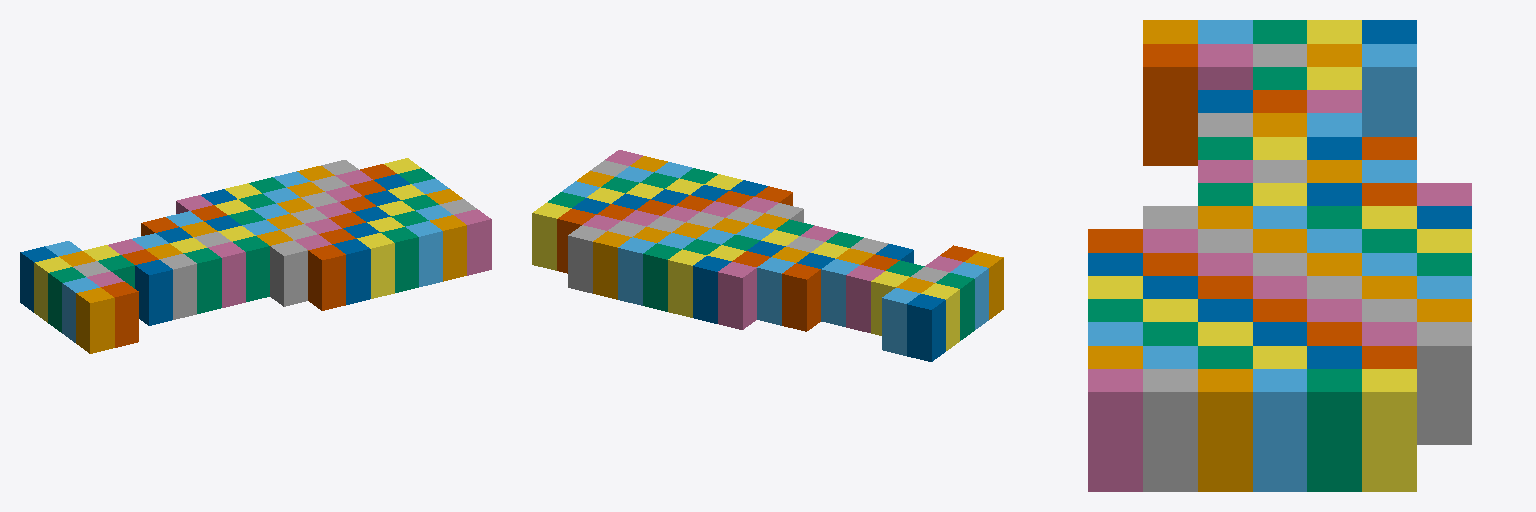
--- What the picture shows (computed from the rendered views, not written in the file) ---
Views: 3 orthographic renders of the robot side by side, from view 1: azimuth 30°, elevation 25°; view 2: azimuth 150°, elevation 25°; view 3: azimuth 270°, elevation 25°.
Robot: spray_gun — 84 links, 83 joints (83 fixed); root link box0; default pose: every joint at zero.
Visible links, largest first — view 1: box0, box31, box37, box12, box78, box44, box18, box5, box22, box65, box15, box51 (+8 smaller); view 2: box21, box4, box30, box14, box36, box71, box25, box43, box50, box57, box9, box83 (+8 smaller); view 3: box71, box78, box79, box80, box82, box83, box5, box81, box9, box6, box0, box1 (+28 smaller).
Boxes of the visible links, bbox=[...] form: box0: bbox=[76, 287, 114, 353]; box31: bbox=[270, 240, 307, 306]; box37: bbox=[308, 245, 345, 310]; box12: bbox=[135, 260, 172, 325]; box78: bbox=[454, 209, 491, 275]; box44: bbox=[332, 239, 370, 304]; box18: bbox=[183, 248, 221, 313]; box5: bbox=[101, 282, 138, 347]; box22: bbox=[208, 242, 245, 307]; box65: bbox=[406, 221, 442, 286]; box15: bbox=[159, 254, 196, 319]; box51: bbox=[357, 233, 394, 298]; box21: bbox=[782, 263, 820, 331]; box4: bbox=[907, 294, 945, 361]; box30: bbox=[718, 262, 756, 329]; box14: bbox=[846, 265, 884, 332]; box36: bbox=[693, 256, 731, 323]; box71: bbox=[568, 225, 606, 293]; box25: bbox=[757, 257, 795, 325]; box43: bbox=[668, 249, 706, 317]; box50: bbox=[643, 243, 681, 311]; box57: bbox=[618, 237, 656, 305]; box9: bbox=[882, 288, 920, 355]; box83: bbox=[532, 202, 571, 270]; box71: bbox=[1417, 322, 1471, 444]; box78: bbox=[1088, 369, 1142, 491]; box79: bbox=[1143, 369, 1197, 491]; box80: bbox=[1198, 369, 1252, 491]; box82: bbox=[1307, 369, 1361, 491]; box83: bbox=[1362, 369, 1416, 491]; box5: bbox=[1143, 44, 1197, 165]; box81: bbox=[1253, 369, 1306, 491]; box9: bbox=[1362, 44, 1416, 136]; box6: bbox=[1198, 44, 1252, 89]; box0: bbox=[1143, 20, 1197, 43]; box1: bbox=[1198, 20, 1252, 43].
Bounding box of the posed robot: 16 × 7 × 2 m (x, y, z).
Geometry: primitives only (box / cylinder / sphere), no mesh files.

The robot description file, URDF, robot "spray_gun":
<robot name = "spray_gun">
	<link name = "box0">
		<visual>
			<origin xyz="0.0 1.0 0.0"/>
			<geometry>
				<box size = "1 1 2"/>
			</geometry>
		</visual>
		<collision>
			<origin xyz="0.0 1.0 0.0"/>
			<geometry>
				<box size = "1 1 2"/>
			</geometry>
		</collision>
		<contact>
			<lateral_friction value = "0.5"/>
		</contact>
		<inertial>
			<mass value = "0.005952380952380952"/>
			<inertia ixx="0.00248015873015873" ixy="0.0" ixz="0.0" iyy="0.00248015873015873" iyz="0.0" izz="0.000992063492063492"/>
			<origin xyz="0.0 1.0 0.0"/>
		</inertial>
	</link>
	<link name = "box1">
		<visual>
			<origin xyz="0.0 2.0 0.0"/>
			<geometry>
				<box size = "1 1 2"/>
			</geometry>
		</visual>
		<collision>
			<origin xyz="0.0 2.0 0.0"/>
			<geometry>
				<box size = "1 1 2"/>
			</geometry>
		</collision>
		<contact>
			<lateral_friction value = "0.5"/>
		</contact>
		<inertial>
			<mass value = "0.005952380952380952"/>
			<inertia ixx="0.00248015873015873" ixy="0.0" ixz="0.0" iyy="0.00248015873015873" iyz="0.0" izz="0.000992063492063492"/>
			<origin xyz="0.0 2.0 0.0"/>
		</inertial>
	</link>
	<joint name = "joint1" type = "fixed">
		<parent link = "box0"/>
		<child link = "box1"/>
	</joint>
	<link name = "box2">
		<visual>
			<origin xyz="0.0 3.0 0.0"/>
			<geometry>
				<box size = "1 1 2"/>
			</geometry>
		</visual>
		<collision>
			<origin xyz="0.0 3.0 0.0"/>
			<geometry>
				<box size = "1 1 2"/>
			</geometry>
		</collision>
		<contact>
			<lateral_friction value = "0.5"/>
		</contact>
		<inertial>
			<mass value = "0.005952380952380952"/>
			<inertia ixx="0.00248015873015873" ixy="0.0" ixz="0.0" iyy="0.00248015873015873" iyz="0.0" izz="0.000992063492063492"/>
			<origin xyz="0.0 3.0 0.0"/>
		</inertial>
	</link>
	<joint name = "joint2" type = "fixed">
		<parent link = "box0"/>
		<child link = "box2"/>
	</joint>
	<link name = "box3">
		<visual>
			<origin xyz="0.0 4.0 0.0"/>
			<geometry>
				<box size = "1 1 2"/>
			</geometry>
		</visual>
		<collision>
			<origin xyz="0.0 4.0 0.0"/>
			<geometry>
				<box size = "1 1 2"/>
			</geometry>
		</collision>
		<contact>
			<lateral_friction value = "0.5"/>
		</contact>
		<inertial>
			<mass value = "0.005952380952380952"/>
			<inertia ixx="0.00248015873015873" ixy="0.0" ixz="0.0" iyy="0.00248015873015873" iyz="0.0" izz="0.000992063492063492"/>
			<origin xyz="0.0 4.0 0.0"/>
		</inertial>
	</link>
	<joint name = "joint3" type = "fixed">
		<parent link = "box0"/>
		<child link = "box3"/>
	</joint>
	<link name = "box4">
		<visual>
			<origin xyz="0.0 5.0 0.0"/>
			<geometry>
				<box size = "1 1 2"/>
			</geometry>
		</visual>
		<collision>
			<origin xyz="0.0 5.0 0.0"/>
			<geometry>
				<box size = "1 1 2"/>
			</geometry>
		</collision>
		<contact>
			<lateral_friction value = "0.5"/>
		</contact>
		<inertial>
			<mass value = "0.005952380952380952"/>
			<inertia ixx="0.00248015873015873" ixy="0.0" ixz="0.0" iyy="0.00248015873015873" iyz="0.0" izz="0.000992063492063492"/>
			<origin xyz="0.0 5.0 0.0"/>
		</inertial>
	</link>
	<joint name = "joint4" type = "fixed">
		<parent link = "box0"/>
		<child link = "box4"/>
	</joint>
	<link name = "box5">
		<visual>
			<origin xyz="1.0 1.0 0.0"/>
			<geometry>
				<box size = "1 1 2"/>
			</geometry>
		</visual>
		<collision>
			<origin xyz="1.0 1.0 0.0"/>
			<geometry>
				<box size = "1 1 2"/>
			</geometry>
		</collision>
		<contact>
			<lateral_friction value = "0.5"/>
		</contact>
		<inertial>
			<mass value = "0.005952380952380952"/>
			<inertia ixx="0.00248015873015873" ixy="0.0" ixz="0.0" iyy="0.00248015873015873" iyz="0.0" izz="0.000992063492063492"/>
			<origin xyz="1.0 1.0 0.0"/>
		</inertial>
	</link>
	<joint name = "joint5" type = "fixed">
		<parent link = "box0"/>
		<child link = "box5"/>
	</joint>
	<link name = "box6">
		<visual>
			<origin xyz="1.0 2.0 0.0"/>
			<geometry>
				<box size = "1 1 2"/>
			</geometry>
		</visual>
		<collision>
			<origin xyz="1.0 2.0 0.0"/>
			<geometry>
				<box size = "1 1 2"/>
			</geometry>
		</collision>
		<contact>
			<lateral_friction value = "0.5"/>
		</contact>
		<inertial>
			<mass value = "0.005952380952380952"/>
			<inertia ixx="0.00248015873015873" ixy="0.0" ixz="0.0" iyy="0.00248015873015873" iyz="0.0" izz="0.000992063492063492"/>
			<origin xyz="1.0 2.0 0.0"/>
		</inertial>
	</link>
	<joint name = "joint6" type = "fixed">
		<parent link = "box0"/>
		<child link = "box6"/>
	</joint>
	<link name = "box7">
		<visual>
			<origin xyz="1.0 3.0 0.0"/>
			<geometry>
				<box size = "1 1 2"/>
			</geometry>
		</visual>
		<collision>
			<origin xyz="1.0 3.0 0.0"/>
			<geometry>
				<box size = "1 1 2"/>
			</geometry>
		</collision>
		<contact>
			<lateral_friction value = "0.5"/>
		</contact>
		<inertial>
			<mass value = "0.005952380952380952"/>
			<inertia ixx="0.00248015873015873" ixy="0.0" ixz="0.0" iyy="0.00248015873015873" iyz="0.0" izz="0.000992063492063492"/>
			<origin xyz="1.0 3.0 0.0"/>
		</inertial>
	</link>
	<joint name = "joint7" type = "fixed">
		<parent link = "box0"/>
		<child link = "box7"/>
	</joint>
	<link name = "box8">
		<visual>
			<origin xyz="1.0 4.0 0.0"/>
			<geometry>
				<box size = "1 1 2"/>
			</geometry>
		</visual>
		<collision>
			<origin xyz="1.0 4.0 0.0"/>
			<geometry>
				<box size = "1 1 2"/>
			</geometry>
		</collision>
		<contact>
			<lateral_friction value = "0.5"/>
		</contact>
		<inertial>
			<mass value = "0.005952380952380952"/>
			<inertia ixx="0.00248015873015873" ixy="0.0" ixz="0.0" iyy="0.00248015873015873" iyz="0.0" izz="0.000992063492063492"/>
			<origin xyz="1.0 4.0 0.0"/>
		</inertial>
	</link>
	<joint name = "joint8" type = "fixed">
		<parent link = "box0"/>
		<child link = "box8"/>
	</joint>
	<link name = "box9">
		<visual>
			<origin xyz="1.0 5.0 0.0"/>
			<geometry>
				<box size = "1 1 2"/>
			</geometry>
		</visual>
		<collision>
			<origin xyz="1.0 5.0 0.0"/>
			<geometry>
				<box size = "1 1 2"/>
			</geometry>
		</collision>
		<contact>
			<lateral_friction value = "0.5"/>
		</contact>
		<inertial>
			<mass value = "0.005952380952380952"/>
			<inertia ixx="0.00248015873015873" ixy="0.0" ixz="0.0" iyy="0.00248015873015873" iyz="0.0" izz="0.000992063492063492"/>
			<origin xyz="1.0 5.0 0.0"/>
		</inertial>
	</link>
	<joint name = "joint9" type = "fixed">
		<parent link = "box0"/>
		<child link = "box9"/>
	</joint>
	<link name = "box10">
		<visual>
			<origin xyz="2.0 3.0 0.0"/>
			<geometry>
				<box size = "1 1 2"/>
			</geometry>
		</visual>
		<collision>
			<origin xyz="2.0 3.0 0.0"/>
			<geometry>
				<box size = "1 1 2"/>
			</geometry>
		</collision>
		<contact>
			<lateral_friction value = "0.0"/>
		</contact>
		<inertial>
			<mass value = "0.0"/>
			<inertia ixx="0.0" ixy="0.0" ixz="0.0" iyy="0.0" iyz="0.0" izz="0.0"/>
			<origin xyz="2.0 3.0 0.0"/>
		</inertial>
	</link>
	<joint name = "joint10" type = "fixed">
		<parent link = "box0"/>
		<child link = "box10"/>
	</joint>
	<link name = "box11">
		<visual>
			<origin xyz="2.0 4.0 0.0"/>
			<geometry>
				<box size = "1 1 2"/>
			</geometry>
		</visual>
		<collision>
			<origin xyz="2.0 4.0 0.0"/>
			<geometry>
				<box size = "1 1 2"/>
			</geometry>
		</collision>
		<contact>
			<lateral_friction value = "0.0"/>
		</contact>
		<inertial>
			<mass value = "0.0"/>
			<inertia ixx="0.0" ixy="0.0" ixz="0.0" iyy="0.0" iyz="0.0" izz="0.0"/>
			<origin xyz="2.0 4.0 0.0"/>
		</inertial>
	</link>
	<joint name = "joint11" type = "fixed">
		<parent link = "box0"/>
		<child link = "box11"/>
	</joint>
	<link name = "box12">
		<visual>
			<origin xyz="3.0 2.0 0.0"/>
			<geometry>
				<box size = "1 1 2"/>
			</geometry>
		</visual>
		<collision>
			<origin xyz="3.0 2.0 0.0"/>
			<geometry>
				<box size = "1 1 2"/>
			</geometry>
		</collision>
		<contact>
			<lateral_friction value = "0.3"/>
		</contact>
		<inertial>
			<mass value = "0.0035714285714285713"/>
			<inertia ixx="0.001488095238095238" ixy="0.0" ixz="0.0" iyy="0.001488095238095238" iyz="0.0" izz="0.0005952380952380952"/>
			<origin xyz="3.0 2.0 0.0"/>
		</inertial>
	</link>
	<joint name = "joint12" type = "fixed">
		<parent link = "box0"/>
		<child link = "box12"/>
	</joint>
	<link name = "box13">
		<visual>
			<origin xyz="3.0 3.0 0.0"/>
			<geometry>
				<box size = "1 1 2"/>
			</geometry>
		</visual>
		<collision>
			<origin xyz="3.0 3.0 0.0"/>
			<geometry>
				<box size = "1 1 2"/>
			</geometry>
		</collision>
		<contact>
			<lateral_friction value = "0.3"/>
		</contact>
		<inertial>
			<mass value = "0.0035714285714285713"/>
			<inertia ixx="0.001488095238095238" ixy="0.0" ixz="0.0" iyy="0.001488095238095238" iyz="0.0" izz="0.0005952380952380952"/>
			<origin xyz="3.0 3.0 0.0"/>
		</inertial>
	</link>
	<joint name = "joint13" type = "fixed">
		<parent link = "box0"/>
		<child link = "box13"/>
	</joint>
	<link name = "box14">
		<visual>
			<origin xyz="3.0 4.0 0.0"/>
			<geometry>
				<box size = "1 1 2"/>
			</geometry>
		</visual>
		<collision>
			<origin xyz="3.0 4.0 0.0"/>
			<geometry>
				<box size = "1 1 2"/>
			</geometry>
		</collision>
		<contact>
			<lateral_friction value = "0.3"/>
		</contact>
		<inertial>
			<mass value = "0.0035714285714285713"/>
			<inertia ixx="0.001488095238095238" ixy="0.0" ixz="0.0" iyy="0.001488095238095238" iyz="0.0" izz="0.0005952380952380952"/>
			<origin xyz="3.0 4.0 0.0"/>
		</inertial>
	</link>
	<joint name = "joint14" type = "fixed">
		<parent link = "box0"/>
		<child link = "box14"/>
	</joint>
	<link name = "box15">
		<visual>
			<origin xyz="4.0 2.0 0.0"/>
			<geometry>
				<box size = "1 1 2"/>
			</geometry>
		</visual>
		<collision>
			<origin xyz="4.0 2.0 0.0"/>
			<geometry>
				<box size = "1 1 2"/>
			</geometry>
		</collision>
		<contact>
			<lateral_friction value = "0.3"/>
		</contact>
		<inertial>
			<mass value = "0.0035714285714285713"/>
			<inertia ixx="0.001488095238095238" ixy="0.0" ixz="0.0" iyy="0.001488095238095238" iyz="0.0" izz="0.0005952380952380952"/>
			<origin xyz="4.0 2.0 0.0"/>
		</inertial>
	</link>
	<joint name = "joint15" type = "fixed">
		<parent link = "box0"/>
		<child link = "box15"/>
	</joint>
	<link name = "box16">
		<visual>
			<origin xyz="4.0 3.0 0.0"/>
			<geometry>
				<box size = "1 1 2"/>
			</geometry>
		</visual>
		<collision>
			<origin xyz="4.0 3.0 0.0"/>
			<geometry>
				<box size = "1 1 2"/>
			</geometry>
		</collision>
		<contact>
			<lateral_friction value = "0.3"/>
		</contact>
		<inertial>
			<mass value = "0.0035714285714285713"/>
			<inertia ixx="0.001488095238095238" ixy="0.0" ixz="0.0" iyy="0.001488095238095238" iyz="0.0" izz="0.0005952380952380952"/>
			<origin xyz="4.0 3.0 0.0"/>
		</inertial>
	</link>
	<joint name = "joint16" type = "fixed">
		<parent link = "box0"/>
		<child link = "box16"/>
	</joint>
	<link name = "box17">
		<visual>
			<origin xyz="4.0 4.0 0.0"/>
			<geometry>
				<box size = "1 1 2"/>
			</geometry>
		</visual>
		<collision>
			<origin xyz="4.0 4.0 0.0"/>
			<geometry>
				<box size = "1 1 2"/>
			</geometry>
		</collision>
		<contact>
			<lateral_friction value = "0.3"/>
		</contact>
		<inertial>
			<mass value = "0.0035714285714285713"/>
			<inertia ixx="0.001488095238095238" ixy="0.0" ixz="0.0" iyy="0.001488095238095238" iyz="0.0" izz="0.0005952380952380952"/>
			<origin xyz="4.0 4.0 0.0"/>
		</inertial>
	</link>
	<joint name = "joint17" type = "fixed">
		<parent link = "box0"/>
		<child link = "box17"/>
	</joint>
	<link name = "box18">
		<visual>
			<origin xyz="5.0 2.0 0.0"/>
			<geometry>
				<box size = "1 1 2"/>
			</geometry>
		</visual>
		<collision>
			<origin xyz="5.0 2.0 0.0"/>
			<geometry>
				<box size = "1 1 2"/>
			</geometry>
		</collision>
		<contact>
			<lateral_friction value = "0.3"/>
		</contact>
		<inertial>
			<mass value = "0.0035714285714285713"/>
			<inertia ixx="0.001488095238095238" ixy="0.0" ixz="0.0" iyy="0.001488095238095238" iyz="0.0" izz="0.0005952380952380952"/>
			<origin xyz="5.0 2.0 0.0"/>
		</inertial>
	</link>
	<joint name = "joint18" type = "fixed">
		<parent link = "box0"/>
		<child link = "box18"/>
	</joint>
	<link name = "box19">
		<visual>
			<origin xyz="5.0 3.0 0.0"/>
			<geometry>
				<box size = "1 1 2"/>
			</geometry>
		</visual>
		<collision>
			<origin xyz="5.0 3.0 0.0"/>
			<geometry>
				<box size = "1 1 2"/>
			</geometry>
		</collision>
		<contact>
			<lateral_friction value = "0.3"/>
		</contact>
		<inertial>
			<mass value = "0.0035714285714285713"/>
			<inertia ixx="0.001488095238095238" ixy="0.0" ixz="0.0" iyy="0.001488095238095238" iyz="0.0" izz="0.0005952380952380952"/>
			<origin xyz="5.0 3.0 0.0"/>
		</inertial>
	</link>
	<joint name = "joint19" type = "fixed">
		<parent link = "box0"/>
		<child link = "box19"/>
	</joint>
	<link name = "box20">
		<visual>
			<origin xyz="5.0 4.0 0.0"/>
			<geometry>
				<box size = "1 1 2"/>
			</geometry>
		</visual>
		<collision>
			<origin xyz="5.0 4.0 0.0"/>
			<geometry>
				<box size = "1 1 2"/>
			</geometry>
		</collision>
		<contact>
			<lateral_friction value = "0.3"/>
		</contact>
		<inertial>
			<mass value = "0.0035714285714285713"/>
			<inertia ixx="0.001488095238095238" ixy="0.0" ixz="0.0" iyy="0.001488095238095238" iyz="0.0" izz="0.0005952380952380952"/>
			<origin xyz="5.0 4.0 0.0"/>
		</inertial>
	</link>
	<joint name = "joint20" type = "fixed">
		<parent link = "box0"/>
		<child link = "box20"/>
	</joint>
	<link name = "box21">
		<visual>
			<origin xyz="5.0 5.0 0.0"/>
			<geometry>
				<box size = "1 1 2"/>
			</geometry>
		</visual>
		<collision>
			<origin xyz="5.0 5.0 0.0"/>
			<geometry>
				<box size = "1 1 2"/>
			</geometry>
		</collision>
		<contact>
			<lateral_friction value = "0.3"/>
		</contact>
		<inertial>
			<mass value = "0.0035714285714285713"/>
			<inertia ixx="0.001488095238095238" ixy="0.0" ixz="0.0" iyy="0.001488095238095238" iyz="0.0" izz="0.0005952380952380952"/>
			<origin xyz="5.0 5.0 0.0"/>
		</inertial>
	</link>
	<joint name = "joint21" type = "fixed">
		<parent link = "box0"/>
		<child link = "box21"/>
	</joint>
	<link name = "box22">
		<visual>
			<origin xyz="6.0 2.0 0.0"/>
			<geometry>
				<box size = "1 1 2"/>
			</geometry>
		</visual>
		<collision>
			<origin xyz="6.0 2.0 0.0"/>
			<geometry>
				<box size = "1 1 2"/>
			</geometry>
		</collision>
		<contact>
			<lateral_friction value = "0.3"/>
		</contact>
		<inertial>
			<mass value = "0.0035714285714285713"/>
			<inertia ixx="0.001488095238095238" ixy="0.0" ixz="0.0" iyy="0.001488095238095238" iyz="0.0" izz="0.0005952380952380952"/>
			<origin xyz="6.0 2.0 0.0"/>
		</inertial>
	</link>
	<joint name = "joint22" type = "fixed">
		<parent link = "box0"/>
		<child link = "box22"/>
	</joint>
	<link name = "box23">
		<visual>
			<origin xyz="6.0 3.0 0.0"/>
			<geometry>
				<box size = "1 1 2"/>
			</geometry>
		</visual>
		<collision>
			<origin xyz="6.0 3.0 0.0"/>
			<geometry>
				<box size = "1 1 2"/>
			</geometry>
		</collision>
		<contact>
			<lateral_friction value = "0.3"/>
		</contact>
		<inertial>
			<mass value = "0.0035714285714285713"/>
			<inertia ixx="0.001488095238095238" ixy="0.0" ixz="0.0" iyy="0.001488095238095238" iyz="0.0" izz="0.0005952380952380952"/>
			<origin xyz="6.0 3.0 0.0"/>
		</inertial>
	</link>
	<joint name = "joint23" type = "fixed">
		<parent link = "box0"/>
		<child link = "box23"/>
	</joint>
	<link name = "box24">
		<visual>
			<origin xyz="6.0 4.0 0.0"/>
			<geometry>
				<box size = "1 1 2"/>
			</geometry>
		</visual>
		<collision>
			<origin xyz="6.0 4.0 0.0"/>
			<geometry>
				<box size = "1 1 2"/>
			</geometry>
		</collision>
		<contact>
			<lateral_friction value = "0.3"/>
		</contact>
		<inertial>
			<mass value = "0.0035714285714285713"/>
			<inertia ixx="0.001488095238095238" ixy="0.0" ixz="0.0" iyy="0.001488095238095238" iyz="0.0" izz="0.0005952380952380952"/>
			<origin xyz="6.0 4.0 0.0"/>
		</inertial>
	</link>
	<joint name = "joint24" type = "fixed">
		<parent link = "box0"/>
		<child link = "box24"/>
	</joint>
	<link name = "box25">
		<visual>
			<origin xyz="6.0 5.0 0.0"/>
			<geometry>
				<box size = "1 1 2"/>
			</geometry>
		</visual>
		<collision>
			<origin xyz="6.0 5.0 0.0"/>
			<geometry>
				<box size = "1 1 2"/>
			</geometry>
		</collision>
		<contact>
			<lateral_friction value = "0.3"/>
		</contact>
		<inertial>
			<mass value = "0.0035714285714285713"/>
			<inertia ixx="0.001488095238095238" ixy="0.0" ixz="0.0" iyy="0.001488095238095238" iyz="0.0" izz="0.0005952380952380952"/>
			<origin xyz="6.0 5.0 0.0"/>
		</inertial>
	</link>
	<joint name = "joint25" type = "fixed">
		<parent link = "box0"/>
		<child link = "box25"/>
	</joint>
	<link name = "box26">
		<visual>
			<origin xyz="7.0 2.0 0.0"/>
			<geometry>
				<box size = "1 1 2"/>
			</geometry>
		</visual>
		<collision>
			<origin xyz="7.0 2.0 0.0"/>
			<geometry>
				<box size = "1 1 2"/>
			</geometry>
		</collision>
		<contact>
			<lateral_friction value = "0.3"/>
		</contact>
		<inertial>
			<mass value = "0.0035714285714285713"/>
			<inertia ixx="0.001488095238095238" ixy="0.0" ixz="0.0" iyy="0.001488095238095238" iyz="0.0" izz="0.0005952380952380952"/>
			<origin xyz="7.0 2.0 0.0"/>
		</inertial>
	</link>
	<joint name = "joint26" type = "fixed">
		<parent link = "box0"/>
		<child link = "box26"/>
	</joint>
	<link name = "box27">
		<visual>
			<origin xyz="7.0 3.0 0.0"/>
			<geometry>
				<box size = "1 1 2"/>
			</geometry>
		</visual>
		<collision>
			<origin xyz="7.0 3.0 0.0"/>
			<geometry>
				<box size = "1 1 2"/>
			</geometry>
		</collision>
		<contact>
			<lateral_friction value = "0.3"/>
		</contact>
		<inertial>
			<mass value = "0.0035714285714285713"/>
			<inertia ixx="0.001488095238095238" ixy="0.0" ixz="0.0" iyy="0.001488095238095238" iyz="0.0" izz="0.0005952380952380952"/>
			<origin xyz="7.0 3.0 0.0"/>
		</inertial>
	</link>
	<joint name = "joint27" type = "fixed">
		<parent link = "box0"/>
		<child link = "box27"/>
	</joint>
	<link name = "box28">
		<visual>
			<origin xyz="7.0 4.0 0.0"/>
			<geometry>
				<box size = "1 1 2"/>
			</geometry>
		</visual>
		<collision>
			<origin xyz="7.0 4.0 0.0"/>
			<geometry>
				<box size = "1 1 2"/>
			</geometry>
		</collision>
		<contact>
			<lateral_friction value = "0.3"/>
		</contact>
		<inertial>
			<mass value = "0.0035714285714285713"/>
			<inertia ixx="0.001488095238095238" ixy="0.0" ixz="0.0" iyy="0.001488095238095238" iyz="0.0" izz="0.0005952380952380952"/>
			<origin xyz="7.0 4.0 0.0"/>
		</inertial>
	</link>
	<joint name = "joint28" type = "fixed">
		<parent link = "box0"/>
		<child link = "box28"/>
	</joint>
	<link name = "box29">
		<visual>
			<origin xyz="7.0 5.0 0.0"/>
			<geometry>
				<box size = "1 1 2"/>
			</geometry>
		</visual>
		<collision>
			<origin xyz="7.0 5.0 0.0"/>
			<geometry>
				<box size = "1 1 2"/>
			</geometry>
		</collision>
		<contact>
			<lateral_friction value = "0.3"/>
		</contact>
		<inertial>
			<mass value = "0.0035714285714285713"/>
			<inertia ixx="0.001488095238095238" ixy="0.0" ixz="0.0" iyy="0.001488095238095238" iyz="0.0" izz="0.0005952380952380952"/>
			<origin xyz="7.0 5.0 0.0"/>
		</inertial>
	</link>
	<joint name = "joint29" type = "fixed">
		<parent link = "box0"/>
		<child link = "box29"/>
	</joint>
	<link name = "box30">
		<visual>
			<origin xyz="7.0 6.0 0.0"/>
			<geometry>
				<box size = "1 1 2"/>
			</geometry>
		</visual>
		<collision>
			<origin xyz="7.0 6.0 0.0"/>
			<geometry>
				<box size = "1 1 2"/>
			</geometry>
		</collision>
		<contact>
			<lateral_friction value = "0.3"/>
		</contact>
		<inertial>
			<mass value = "0.0035714285714285713"/>
			<inertia ixx="0.001488095238095238" ixy="0.0" ixz="0.0" iyy="0.001488095238095238" iyz="0.0" izz="0.0005952380952380952"/>
			<origin xyz="7.0 6.0 0.0"/>
		</inertial>
	</link>
	<joint name = "joint30" type = "fixed">
		<parent link = "box0"/>
		<child link = "box30"/>
	</joint>
	<link name = "box31">
		<visual>
			<origin xyz="8.0 1.0 0.0"/>
			<geometry>
				<box size = "1 1 2"/>
			</geometry>
		</visual>
		<collision>
			<origin xyz="8.0 1.0 0.0"/>
			<geometry>
				<box size = "1 1 2"/>
			</geometry>
		</collision>
		<contact>
			<lateral_friction value = "0.3"/>
		</contact>
		<inertial>
			<mass value = "0.0035714285714285713"/>
			<inertia ixx="0.001488095238095238" ixy="0.0" ixz="0.0" iyy="0.001488095238095238" iyz="0.0" izz="0.0005952380952380952"/>
			<origin xyz="8.0 1.0 0.0"/>
		</inertial>
	</link>
	<joint name = "joint31" type = "fixed">
		<parent link = "box0"/>
		<child link = "box31"/>
	</joint>
	<link name = "box32">
		<visual>
			<origin xyz="8.0 2.0 0.0"/>
			<geometry>
				<box size = "1 1 2"/>
			</geometry>
		</visual>
		<collision>
			<origin xyz="8.0 2.0 0.0"/>
			<geometry>
				<box size = "1 1 2"/>
			</geometry>
		</collision>
		<contact>
			<lateral_friction value = "0.3"/>
		</contact>
		<inertial>
			<mass value = "0.0035714285714285713"/>
			<inertia ixx="0.001488095238095238" ixy="0.0" ixz="0.0" iyy="0.001488095238095238" iyz="0.0" izz="0.0005952380952380952"/>
			<origin xyz="8.0 2.0 0.0"/>
		</inertial>
	</link>
	<joint name = "joint32" type = "fixed">
		<parent link = "box0"/>
		<child link = "box32"/>
	</joint>
	<link name = "box33">
		<visual>
			<origin xyz="8.0 3.0 0.0"/>
			<geometry>
				<box size = "1 1 2"/>
			</geometry>
		</visual>
		<collision>
			<origin xyz="8.0 3.0 0.0"/>
			<geometry>
				<box size = "1 1 2"/>
			</geometry>
		</collision>
		<contact>
			<lateral_friction value = "0.3"/>
		</contact>
		<inertial>
			<mass value = "0.0035714285714285713"/>
			<inertia ixx="0.001488095238095238" ixy="0.0" ixz="0.0" iyy="0.001488095238095238" iyz="0.0" izz="0.0005952380952380952"/>
			<origin xyz="8.0 3.0 0.0"/>
		</inertial>
	</link>
	<joint name = "joint33" type = "fixed">
		<parent link = "box0"/>
		<child link = "box33"/>
	</joint>
	<link name = "box34">
		<visual>
			<origin xyz="8.0 4.0 0.0"/>
			<geometry>
				<box size = "1 1 2"/>
			</geometry>
		</visual>
		<collision>
			<origin xyz="8.0 4.0 0.0"/>
			<geometry>
				<box size = "1 1 2"/>
			</geometry>
		</collision>
		<contact>
			<lateral_friction value = "0.3"/>
		</contact>
		<inertial>
			<mass value = "0.0035714285714285713"/>
			<inertia ixx="0.001488095238095238" ixy="0.0" ixz="0.0" iyy="0.001488095238095238" iyz="0.0" izz="0.0005952380952380952"/>
			<origin xyz="8.0 4.0 0.0"/>
		</inertial>
	</link>
	<joint name = "joint34" type = "fixed">
		<parent link = "box0"/>
		<child link = "box34"/>
	</joint>
	<link name = "box35">
		<visual>
			<origin xyz="8.0 5.0 0.0"/>
			<geometry>
				<box size = "1 1 2"/>
			</geometry>
		</visual>
		<collision>
			<origin xyz="8.0 5.0 0.0"/>
			<geometry>
				<box size = "1 1 2"/>
			</geometry>
		</collision>
		<contact>
			<lateral_friction value = "0.3"/>
		</contact>
		<inertial>
			<mass value = "0.0035714285714285713"/>
			<inertia ixx="0.001488095238095238" ixy="0.0" ixz="0.0" iyy="0.001488095238095238" iyz="0.0" izz="0.0005952380952380952"/>
			<origin xyz="8.0 5.0 0.0"/>
		</inertial>
	</link>
	<joint name = "joint35" type = "fixed">
		<parent link = "box0"/>
		<child link = "box35"/>
	</joint>
	<link name = "box36">
		<visual>
			<origin xyz="8.0 6.0 0.0"/>
			<geometry>
				<box size = "1 1 2"/>
			</geometry>
		</visual>
		<collision>
			<origin xyz="8.0 6.0 0.0"/>
			<geometry>
				<box size = "1 1 2"/>
			</geometry>
		</collision>
		<contact>
			<lateral_friction value = "0.3"/>
		</contact>
		<inertial>
			<mass value = "0.0035714285714285713"/>
			<inertia ixx="0.001488095238095238" ixy="0.0" ixz="0.0" iyy="0.001488095238095238" iyz="0.0" izz="0.0005952380952380952"/>
			<origin xyz="8.0 6.0 0.0"/>
		</inertial>
	</link>
	<joint name = "joint36" type = "fixed">
		<parent link = "box0"/>
		<child link = "box36"/>
	</joint>
	<link name = "box37">
		<visual>
			<origin xyz="9.0 0.0 0.0"/>
			<geometry>
				<box size = "1 1 2"/>
			</geometry>
		</visual>
		<collision>
			<origin xyz="9.0 0.0 0.0"/>
			<geometry>
				<box size = "1 1 2"/>
			</geometry>
		</collision>
		<contact>
			<lateral_friction value = "0.3"/>
		</contact>
		<inertial>
			<mass value = "0.0035714285714285713"/>
			<inertia ixx="0.001488095238095238" ixy="0.0" ixz="0.0" iyy="0.001488095238095238" iyz="0.0" izz="0.0005952380952380952"/>
			<origin xyz="9.0 0.0 0.0"/>
		</inertial>
	</link>
	<joint name = "joint37" type = "fixed">
		<parent link = "box0"/>
		<child link = "box37"/>
	</joint>
	<link name = "box38">
		<visual>
			<origin xyz="9.0 1.0 0.0"/>
			<geometry>
				<box size = "1 1 2"/>
			</geometry>
		</visual>
		<collision>
			<origin xyz="9.0 1.0 0.0"/>
			<geometry>
				<box size = "1 1 2"/>
			</geometry>
		</collision>
		<contact>
			<lateral_friction value = "0.3"/>
		</contact>
		<inertial>
			<mass value = "0.0035714285714285713"/>
			<inertia ixx="0.001488095238095238" ixy="0.0" ixz="0.0" iyy="0.001488095238095238" iyz="0.0" izz="0.0005952380952380952"/>
			<origin xyz="9.0 1.0 0.0"/>
		</inertial>
	</link>
	<joint name = "joint38" type = "fixed">
		<parent link = "box0"/>
		<child link = "box38"/>
	</joint>
	<link name = "box39">
		<visual>
			<origin xyz="9.0 2.0 0.0"/>
			<geometry>
				<box size = "1 1 2"/>
			</geometry>
		</visual>
		<collision>
			<origin xyz="9.0 2.0 0.0"/>
			<geometry>
				<box size = "1 1 2"/>
			</geometry>
		</collision>
		<contact>
			<lateral_friction value = "0.3"/>
		</contact>
		<inertial>
			<mass value = "0.0035714285714285713"/>
			<inertia ixx="0.001488095238095238" ixy="0.0" ixz="0.0" iyy="0.001488095238095238" iyz="0.0" izz="0.0005952380952380952"/>
			<origin xyz="9.0 2.0 0.0"/>
		</inertial>
	</link>
	<joint name = "joint39" type = "fixed">
		<parent link = "box0"/>
		<child link = "box39"/>
	</joint>
	<link name = "box40">
		<visual>
			<origin xyz="9.0 3.0 0.0"/>
			<geometry>
				<box size = "1 1 2"/>
			</geometry>
		</visual>
		<collision>
			<origin xyz="9.0 3.0 0.0"/>
			<geometry>
				<box size = "1 1 2"/>
			</geometry>
		</collision>
		<contact>
			<lateral_friction value = "0.3"/>
		</contact>
		<inertial>
			<mass value = "0.0035714285714285713"/>
			<inertia ixx="0.001488095238095238" ixy="0.0" ixz="0.0" iyy="0.001488095238095238" iyz="0.0" izz="0.0005952380952380952"/>
			<origin xyz="9.0 3.0 0.0"/>
		</inertial>
	</link>
	<joint name = "joint40" type = "fixed">
		<parent link = "box0"/>
		<child link = "box40"/>
	</joint>
	<link name = "box41">
		<visual>
			<origin xyz="9.0 4.0 0.0"/>
			<geometry>
				<box size = "1 1 2"/>
			</geometry>
		</visual>
		<collision>
			<origin xyz="9.0 4.0 0.0"/>
			<geometry>
				<box size = "1 1 2"/>
			</geometry>
		</collision>
		<contact>
			<lateral_friction value = "0.3"/>
		</contact>
		<inertial>
			<mass value = "0.0035714285714285713"/>
			<inertia ixx="0.001488095238095238" ixy="0.0" ixz="0.0" iyy="0.001488095238095238" iyz="0.0" izz="0.0005952380952380952"/>
			<origin xyz="9.0 4.0 0.0"/>
		</inertial>
	</link>
	<joint name = "joint41" type = "fixed">
		<parent link = "box0"/>
		<child link = "box41"/>
	</joint>
	<link name = "box42">
		<visual>
			<origin xyz="9.0 5.0 0.0"/>
			<geometry>
				<box size = "1 1 2"/>
			</geometry>
		</visual>
		<collision>
			<origin xyz="9.0 5.0 0.0"/>
			<geometry>
				<box size = "1 1 2"/>
			</geometry>
		</collision>
		<contact>
			<lateral_friction value = "0.3"/>
		</contact>
		<inertial>
			<mass value = "0.0035714285714285713"/>
			<inertia ixx="0.001488095238095238" ixy="0.0" ixz="0.0" iyy="0.001488095238095238" iyz="0.0" izz="0.0005952380952380952"/>
			<origin xyz="9.0 5.0 0.0"/>
		</inertial>
	</link>
	<joint name = "joint42" type = "fixed">
		<parent link = "box0"/>
		<child link = "box42"/>
	</joint>
	<link name = "box43">
		<visual>
			<origin xyz="9.0 6.0 0.0"/>
			<geometry>
				<box size = "1 1 2"/>
			</geometry>
		</visual>
		<collision>
			<origin xyz="9.0 6.0 0.0"/>
			<geometry>
				<box size = "1 1 2"/>
			</geometry>
		</collision>
		<contact>
			<lateral_friction value = "0.3"/>
		</contact>
		<inertial>
			<mass value = "0.0035714285714285713"/>
			<inertia ixx="0.001488095238095238" ixy="0.0" ixz="0.0" iyy="0.001488095238095238" iyz="0.0" izz="0.0005952380952380952"/>
			<origin xyz="9.0 6.0 0.0"/>
		</inertial>
	</link>
	<joint name = "joint43" type = "fixed">
		<parent link = "box0"/>
		<child link = "box43"/>
	</joint>
	<link name = "box44">
		<visual>
			<origin xyz="10.0 0.0 0.0"/>
			<geometry>
				<box size = "1 1 2"/>
			</geometry>
		</visual>
		<collision>
			<origin xyz="10.0 0.0 0.0"/>
			<geometry>
				<box size = "1 1 2"/>
			</geometry>
		</collision>
		<contact>
			<lateral_friction value = "0.3"/>
		</contact>
		<inertial>
			<mass value = "0.0035714285714285713"/>
			<inertia ixx="0.001488095238095238" ixy="0.0" ixz="0.0" iyy="0.001488095238095238" iyz="0.0" izz="0.0005952380952380952"/>
			<origin xyz="10.0 0.0 0.0"/>
		</inertial>
	</link>
	<joint name = "joint44" type = "fixed">
		<parent link = "box0"/>
		<child link = "box44"/>
	</joint>
	<link name = "box45">
		<visual>
			<origin xyz="10.0 1.0 0.0"/>
			<geometry>
				<box size = "1 1 2"/>
			</geometry>
		</visual>
		<collision>
			<origin xyz="10.0 1.0 0.0"/>
			<geometry>
				<box size = "1 1 2"/>
			</geometry>
		</collision>
		<contact>
			<lateral_friction value = "0.3"/>
		</contact>
		<inertial>
			<mass value = "0.0035714285714285713"/>
			<inertia ixx="0.001488095238095238" ixy="0.0" ixz="0.0" iyy="0.001488095238095238" iyz="0.0" izz="0.0005952380952380952"/>
			<origin xyz="10.0 1.0 0.0"/>
		</inertial>
	</link>
	<joint name = "joint45" type = "fixed">
		<parent link = "box0"/>
		<child link = "box45"/>
	</joint>
	<link name = "box46">
		<visual>
			<origin xyz="10.0 2.0 0.0"/>
			<geometry>
				<box size = "1 1 2"/>
			</geometry>
		</visual>
		<collision>
			<origin xyz="10.0 2.0 0.0"/>
			<geometry>
				<box size = "1 1 2"/>
			</geometry>
		</collision>
		<contact>
			<lateral_friction value = "0.3"/>
		</contact>
		<inertial>
			<mass value = "0.0035714285714285713"/>
			<inertia ixx="0.001488095238095238" ixy="0.0" ixz="0.0" iyy="0.001488095238095238" iyz="0.0" izz="0.0005952380952380952"/>
			<origin xyz="10.0 2.0 0.0"/>
		</inertial>
	</link>
	<joint name = "joint46" type = "fixed">
		<parent link = "box0"/>
		<child link = "box46"/>
	</joint>
	<link name = "box47">
		<visual>
			<origin xyz="10.0 3.0 0.0"/>
			<geometry>
				<box size = "1 1 2"/>
			</geometry>
		</visual>
		<collision>
			<origin xyz="10.0 3.0 0.0"/>
			<geometry>
				<box size = "1 1 2"/>
			</geometry>
		</collision>
		<contact>
			<lateral_friction value = "0.3"/>
		</contact>
		<inertial>
			<mass value = "0.0035714285714285713"/>
			<inertia ixx="0.001488095238095238" ixy="0.0" ixz="0.0" iyy="0.001488095238095238" iyz="0.0" izz="0.0005952380952380952"/>
			<origin xyz="10.0 3.0 0.0"/>
		</inertial>
	</link>
	<joint name = "joint47" type = "fixed">
		<parent link = "box0"/>
		<child link = "box47"/>
	</joint>
	<link name = "box48">
		<visual>
			<origin xyz="10.0 4.0 0.0"/>
			<geometry>
				<box size = "1 1 2"/>
			</geometry>
		</visual>
		<collision>
			<origin xyz="10.0 4.0 0.0"/>
			<geometry>
				<box size = "1 1 2"/>
			</geometry>
		</collision>
		<contact>
			<lateral_friction value = "0.3"/>
		</contact>
		<inertial>
			<mass value = "0.0035714285714285713"/>
			<inertia ixx="0.001488095238095238" ixy="0.0" ixz="0.0" iyy="0.001488095238095238" iyz="0.0" izz="0.0005952380952380952"/>
			<origin xyz="10.0 4.0 0.0"/>
		</inertial>
	</link>
	<joint name = "joint48" type = "fixed">
		<parent link = "box0"/>
		<child link = "box48"/>
	</joint>
	<link name = "box49">
		<visual>
			<origin xyz="10.0 5.0 0.0"/>
			<geometry>
				<box size = "1 1 2"/>
			</geometry>
		</visual>
		<collision>
			<origin xyz="10.0 5.0 0.0"/>
			<geometry>
				<box size = "1 1 2"/>
			</geometry>
		</collision>
		<contact>
			<lateral_friction value = "0.3"/>
		</contact>
		<inertial>
			<mass value = "0.0035714285714285713"/>
			<inertia ixx="0.001488095238095238" ixy="0.0" ixz="0.0" iyy="0.001488095238095238" iyz="0.0" izz="0.0005952380952380952"/>
			<origin xyz="10.0 5.0 0.0"/>
		</inertial>
	</link>
	<joint name = "joint49" type = "fixed">
		<parent link = "box0"/>
		<child link = "box49"/>
	</joint>
	<link name = "box50">
		<visual>
			<origin xyz="10.0 6.0 0.0"/>
			<geometry>
				<box size = "1 1 2"/>
			</geometry>
		</visual>
		<collision>
			<origin xyz="10.0 6.0 0.0"/>
			<geometry>
				<box size = "1 1 2"/>
			</geometry>
		</collision>
		<contact>
			<lateral_friction value = "0.3"/>
		</contact>
		<inertial>
			<mass value = "0.0035714285714285713"/>
			<inertia ixx="0.001488095238095238" ixy="0.0" ixz="0.0" iyy="0.001488095238095238" iyz="0.0" izz="0.0005952380952380952"/>
			<origin xyz="10.0 6.0 0.0"/>
		</inertial>
	</link>
	<joint name = "joint50" type = "fixed">
		<parent link = "box0"/>
		<child link = "box50"/>
	</joint>
	<link name = "box51">
		<visual>
			<origin xyz="11.0 0.0 0.0"/>
			<geometry>
				<box size = "1 1 2"/>
			</geometry>
		</visual>
		<collision>
			<origin xyz="11.0 0.0 0.0"/>
			<geometry>
				<box size = "1 1 2"/>
			</geometry>
		</collision>
		<contact>
			<lateral_friction value = "0.3"/>
		</contact>
		<inertial>
			<mass value = "0.0035714285714285713"/>
			<inertia ixx="0.001488095238095238" ixy="0.0" ixz="0.0" iyy="0.001488095238095238" iyz="0.0" izz="0.0005952380952380952"/>
			<origin xyz="11.0 0.0 0.0"/>
		</inertial>
	</link>
	<joint name = "joint51" type = "fixed">
		<parent link = "box0"/>
		<child link = "box51"/>
	</joint>
	<link name = "box52">
		<visual>
			<origin xyz="11.0 1.0 0.0"/>
			<geometry>
				<box size = "1 1 2"/>
			</geometry>
		</visual>
		<collision>
			<origin xyz="11.0 1.0 0.0"/>
			<geometry>
				<box size = "1 1 2"/>
			</geometry>
		</collision>
		<contact>
			<lateral_friction value = "0.3"/>
		</contact>
		<inertial>
			<mass value = "0.0035714285714285713"/>
			<inertia ixx="0.001488095238095238" ixy="0.0" ixz="0.0" iyy="0.001488095238095238" iyz="0.0" izz="0.0005952380952380952"/>
			<origin xyz="11.0 1.0 0.0"/>
		</inertial>
	</link>
	<joint name = "joint52" type = "fixed">
		<parent link = "box0"/>
		<child link = "box52"/>
	</joint>
	<link name = "box53">
		<visual>
			<origin xyz="11.0 2.0 0.0"/>
			<geometry>
				<box size = "1 1 2"/>
			</geometry>
		</visual>
		<collision>
			<origin xyz="11.0 2.0 0.0"/>
			<geometry>
				<box size = "1 1 2"/>
			</geometry>
		</collision>
		<contact>
			<lateral_friction value = "0.3"/>
		</contact>
		<inertial>
			<mass value = "0.0035714285714285713"/>
			<inertia ixx="0.001488095238095238" ixy="0.0" ixz="0.0" iyy="0.001488095238095238" iyz="0.0" izz="0.0005952380952380952"/>
			<origin xyz="11.0 2.0 0.0"/>
		</inertial>
	</link>
	<joint name = "joint53" type = "fixed">
		<parent link = "box0"/>
		<child link = "box53"/>
	</joint>
	<link name = "box54">
		<visual>
			<origin xyz="11.0 3.0 0.0"/>
			<geometry>
				<box size = "1 1 2"/>
			</geometry>
		</visual>
		<collision>
			<origin xyz="11.0 3.0 0.0"/>
			<geometry>
				<box size = "1 1 2"/>
			</geometry>
		</collision>
		<contact>
			<lateral_friction value = "0.3"/>
		</contact>
		<inertial>
			<mass value = "0.0035714285714285713"/>
			<inertia ixx="0.001488095238095238" ixy="0.0" ixz="0.0" iyy="0.001488095238095238" iyz="0.0" izz="0.0005952380952380952"/>
			<origin xyz="11.0 3.0 0.0"/>
		</inertial>
	</link>
	<joint name = "joint54" type = "fixed">
		<parent link = "box0"/>
		<child link = "box54"/>
	</joint>
	<link name = "box55">
		<visual>
			<origin xyz="11.0 4.0 0.0"/>
			<geometry>
				<box size = "1 1 2"/>
			</geometry>
		</visual>
		<collision>
			<origin xyz="11.0 4.0 0.0"/>
			<geometry>
				<box size = "1 1 2"/>
			</geometry>
		</collision>
		<contact>
			<lateral_friction value = "0.3"/>
		</contact>
		<inertial>
			<mass value = "0.0035714285714285713"/>
			<inertia ixx="0.001488095238095238" ixy="0.0" ixz="0.0" iyy="0.001488095238095238" iyz="0.0" izz="0.0005952380952380952"/>
			<origin xyz="11.0 4.0 0.0"/>
		</inertial>
	</link>
	<joint name = "joint55" type = "fixed">
		<parent link = "box0"/>
		<child link = "box55"/>
	</joint>
	<link name = "box56">
		<visual>
			<origin xyz="11.0 5.0 0.0"/>
			<geometry>
				<box size = "1 1 2"/>
			</geometry>
		</visual>
		<collision>
			<origin xyz="11.0 5.0 0.0"/>
			<geometry>
				<box size = "1 1 2"/>
			</geometry>
		</collision>
		<contact>
			<lateral_friction value = "0.3"/>
		</contact>
		<inertial>
			<mass value = "0.0035714285714285713"/>
			<inertia ixx="0.001488095238095238" ixy="0.0" ixz="0.0" iyy="0.001488095238095238" iyz="0.0" izz="0.0005952380952380952"/>
			<origin xyz="11.0 5.0 0.0"/>
		</inertial>
	</link>
	<joint name = "joint56" type = "fixed">
		<parent link = "box0"/>
		<child link = "box56"/>
	</joint>
	<link name = "box57">
		<visual>
			<origin xyz="11.0 6.0 0.0"/>
			<geometry>
				<box size = "1 1 2"/>
			</geometry>
		</visual>
		<collision>
			<origin xyz="11.0 6.0 0.0"/>
			<geometry>
				<box size = "1 1 2"/>
			</geometry>
		</collision>
		<contact>
			<lateral_friction value = "0.3"/>
		</contact>
		<inertial>
			<mass value = "0.0035714285714285713"/>
			<inertia ixx="0.001488095238095238" ixy="0.0" ixz="0.0" iyy="0.001488095238095238" iyz="0.0" izz="0.0005952380952380952"/>
			<origin xyz="11.0 6.0 0.0"/>
		</inertial>
	</link>
	<joint name = "joint57" type = "fixed">
		<parent link = "box0"/>
		<child link = "box57"/>
	</joint>
	<link name = "box58">
		<visual>
			<origin xyz="12.0 0.0 0.0"/>
			<geometry>
				<box size = "1 1 2"/>
			</geometry>
		</visual>
		<collision>
			<origin xyz="12.0 0.0 0.0"/>
			<geometry>
				<box size = "1 1 2"/>
			</geometry>
		</collision>
		<contact>
			<lateral_friction value = "0.3"/>
		</contact>
		<inertial>
			<mass value = "0.0035714285714285713"/>
			<inertia ixx="0.001488095238095238" ixy="0.0" ixz="0.0" iyy="0.001488095238095238" iyz="0.0" izz="0.0005952380952380952"/>
			<origin xyz="12.0 0.0 0.0"/>
		</inertial>
	</link>
	<joint name = "joint58" type = "fixed">
		<parent link = "box0"/>
		<child link = "box58"/>
	</joint>
	<link name = "box59">
		<visual>
			<origin xyz="12.0 1.0 0.0"/>
			<geometry>
				<box size = "1 1 2"/>
			</geometry>
		</visual>
		<collision>
			<origin xyz="12.0 1.0 0.0"/>
			<geometry>
				<box size = "1 1 2"/>
			</geometry>
		</collision>
		<contact>
			<lateral_friction value = "0.3"/>
		</contact>
		<inertial>
			<mass value = "0.0035714285714285713"/>
			<inertia ixx="0.001488095238095238" ixy="0.0" ixz="0.0" iyy="0.001488095238095238" iyz="0.0" izz="0.0005952380952380952"/>
			<origin xyz="12.0 1.0 0.0"/>
		</inertial>
	</link>
	<joint name = "joint59" type = "fixed">
		<parent link = "box0"/>
		<child link = "box59"/>
	</joint>
	<link name = "box60">
		<visual>
			<origin xyz="12.0 2.0 0.0"/>
			<geometry>
				<box size = "1 1 2"/>
			</geometry>
		</visual>
		<collision>
			<origin xyz="12.0 2.0 0.0"/>
			<geometry>
				<box size = "1 1 2"/>
			</geometry>
		</collision>
		<contact>
			<lateral_friction value = "0.3"/>
		</contact>
		<inertial>
			<mass value = "0.0035714285714285713"/>
			<inertia ixx="0.001488095238095238" ixy="0.0" ixz="0.0" iyy="0.001488095238095238" iyz="0.0" izz="0.0005952380952380952"/>
			<origin xyz="12.0 2.0 0.0"/>
		</inertial>
	</link>
	<joint name = "joint60" type = "fixed">
		<parent link = "box0"/>
		<child link = "box60"/>
	</joint>
	<link name = "box61">
		<visual>
			<origin xyz="12.0 3.0 0.0"/>
			<geometry>
				<box size = "1 1 2"/>
			</geometry>
		</visual>
		<collision>
			<origin xyz="12.0 3.0 0.0"/>
			<geometry>
				<box size = "1 1 2"/>
			</geometry>
		</collision>
		<contact>
			<lateral_friction value = "0.3"/>
		</contact>
		<inertial>
			<mass value = "0.0035714285714285713"/>
			<inertia ixx="0.001488095238095238" ixy="0.0" ixz="0.0" iyy="0.001488095238095238" iyz="0.0" izz="0.0005952380952380952"/>
			<origin xyz="12.0 3.0 0.0"/>
		</inertial>
	</link>
	<joint name = "joint61" type = "fixed">
		<parent link = "box0"/>
		<child link = "box61"/>
	</joint>
	<link name = "box62">
		<visual>
			<origin xyz="12.0 4.0 0.0"/>
			<geometry>
				<box size = "1 1 2"/>
			</geometry>
		</visual>
		<collision>
			<origin xyz="12.0 4.0 0.0"/>
			<geometry>
				<box size = "1 1 2"/>
			</geometry>
		</collision>
		<contact>
			<lateral_friction value = "0.3"/>
		</contact>
		<inertial>
			<mass value = "0.0035714285714285713"/>
			<inertia ixx="0.001488095238095238" ixy="0.0" ixz="0.0" iyy="0.001488095238095238" iyz="0.0" izz="0.0005952380952380952"/>
			<origin xyz="12.0 4.0 0.0"/>
		</inertial>
	</link>
	<joint name = "joint62" type = "fixed">
		<parent link = "box0"/>
		<child link = "box62"/>
	</joint>
	<link name = "box63">
		<visual>
			<origin xyz="12.0 5.0 0.0"/>
			<geometry>
				<box size = "1 1 2"/>
			</geometry>
		</visual>
		<collision>
			<origin xyz="12.0 5.0 0.0"/>
			<geometry>
				<box size = "1 1 2"/>
			</geometry>
		</collision>
		<contact>
			<lateral_friction value = "0.3"/>
		</contact>
		<inertial>
			<mass value = "0.0035714285714285713"/>
			<inertia ixx="0.001488095238095238" ixy="0.0" ixz="0.0" iyy="0.001488095238095238" iyz="0.0" izz="0.0005952380952380952"/>
			<origin xyz="12.0 5.0 0.0"/>
		</inertial>
	</link>
	<joint name = "joint63" type = "fixed">
		<parent link = "box0"/>
		<child link = "box63"/>
	</joint>
	<link name = "box64">
		<visual>
			<origin xyz="12.0 6.0 0.0"/>
			<geometry>
				<box size = "1 1 2"/>
			</geometry>
		</visual>
		<collision>
			<origin xyz="12.0 6.0 0.0"/>
			<geometry>
				<box size = "1 1 2"/>
			</geometry>
		</collision>
		<contact>
			<lateral_friction value = "0.3"/>
		</contact>
		<inertial>
			<mass value = "0.0035714285714285713"/>
			<inertia ixx="0.001488095238095238" ixy="0.0" ixz="0.0" iyy="0.001488095238095238" iyz="0.0" izz="0.0005952380952380952"/>
			<origin xyz="12.0 6.0 0.0"/>
		</inertial>
	</link>
	<joint name = "joint64" type = "fixed">
		<parent link = "box0"/>
		<child link = "box64"/>
	</joint>
	<link name = "box65">
		<visual>
			<origin xyz="13.0 0.0 0.0"/>
			<geometry>
				<box size = "1 1 2"/>
			</geometry>
		</visual>
		<collision>
			<origin xyz="13.0 0.0 0.0"/>
			<geometry>
				<box size = "1 1 2"/>
			</geometry>
		</collision>
		<contact>
			<lateral_friction value = "0.3"/>
		</contact>
		<inertial>
			<mass value = "0.0035714285714285713"/>
			<inertia ixx="0.001488095238095238" ixy="0.0" ixz="0.0" iyy="0.001488095238095238" iyz="0.0" izz="0.0005952380952380952"/>
			<origin xyz="13.0 0.0 0.0"/>
		</inertial>
	</link>
	<joint name = "joint65" type = "fixed">
		<parent link = "box0"/>
		<child link = "box65"/>
	</joint>
	<link name = "box66">
		<visual>
			<origin xyz="13.0 1.0 0.0"/>
			<geometry>
				<box size = "1 1 2"/>
			</geometry>
		</visual>
		<collision>
			<origin xyz="13.0 1.0 0.0"/>
			<geometry>
				<box size = "1 1 2"/>
			</geometry>
		</collision>
		<contact>
			<lateral_friction value = "0.3"/>
		</contact>
		<inertial>
			<mass value = "0.0035714285714285713"/>
			<inertia ixx="0.001488095238095238" ixy="0.0" ixz="0.0" iyy="0.001488095238095238" iyz="0.0" izz="0.0005952380952380952"/>
			<origin xyz="13.0 1.0 0.0"/>
		</inertial>
	</link>
	<joint name = "joint66" type = "fixed">
		<parent link = "box0"/>
		<child link = "box66"/>
	</joint>
	<link name = "box67">
		<visual>
			<origin xyz="13.0 2.0 0.0"/>
			<geometry>
				<box size = "1 1 2"/>
			</geometry>
		</visual>
		<collision>
			<origin xyz="13.0 2.0 0.0"/>
			<geometry>
				<box size = "1 1 2"/>
			</geometry>
		</collision>
		<contact>
			<lateral_friction value = "0.3"/>
		</contact>
		<inertial>
			<mass value = "0.0035714285714285713"/>
			<inertia ixx="0.001488095238095238" ixy="0.0" ixz="0.0" iyy="0.001488095238095238" iyz="0.0" izz="0.0005952380952380952"/>
			<origin xyz="13.0 2.0 0.0"/>
		</inertial>
	</link>
	<joint name = "joint67" type = "fixed">
		<parent link = "box0"/>
		<child link = "box67"/>
	</joint>
	<link name = "box68">
		<visual>
			<origin xyz="13.0 3.0 0.0"/>
			<geometry>
				<box size = "1 1 2"/>
			</geometry>
		</visual>
		<collision>
			<origin xyz="13.0 3.0 0.0"/>
			<geometry>
				<box size = "1 1 2"/>
			</geometry>
		</collision>
		<contact>
			<lateral_friction value = "0.3"/>
		</contact>
		<inertial>
			<mass value = "0.0035714285714285713"/>
			<inertia ixx="0.001488095238095238" ixy="0.0" ixz="0.0" iyy="0.001488095238095238" iyz="0.0" izz="0.0005952380952380952"/>
			<origin xyz="13.0 3.0 0.0"/>
		</inertial>
	</link>
	<joint name = "joint68" type = "fixed">
		<parent link = "box0"/>
		<child link = "box68"/>
	</joint>
	<link name = "box69">
		<visual>
			<origin xyz="13.0 4.0 0.0"/>
			<geometry>
				<box size = "1 1 2"/>
			</geometry>
		</visual>
		<collision>
			<origin xyz="13.0 4.0 0.0"/>
			<geometry>
				<box size = "1 1 2"/>
			</geometry>
		</collision>
		<contact>
			<lateral_friction value = "0.3"/>
		</contact>
		<inertial>
			<mass value = "0.0035714285714285713"/>
			<inertia ixx="0.001488095238095238" ixy="0.0" ixz="0.0" iyy="0.001488095238095238" iyz="0.0" izz="0.0005952380952380952"/>
			<origin xyz="13.0 4.0 0.0"/>
		</inertial>
	</link>
	<joint name = "joint69" type = "fixed">
		<parent link = "box0"/>
		<child link = "box69"/>
	</joint>
	<link name = "box70">
		<visual>
			<origin xyz="13.0 5.0 0.0"/>
			<geometry>
				<box size = "1 1 2"/>
			</geometry>
		</visual>
		<collision>
			<origin xyz="13.0 5.0 0.0"/>
			<geometry>
				<box size = "1 1 2"/>
			</geometry>
		</collision>
		<contact>
			<lateral_friction value = "0.3"/>
		</contact>
		<inertial>
			<mass value = "0.0035714285714285713"/>
			<inertia ixx="0.001488095238095238" ixy="0.0" ixz="0.0" iyy="0.001488095238095238" iyz="0.0" izz="0.0005952380952380952"/>
			<origin xyz="13.0 5.0 0.0"/>
		</inertial>
	</link>
	<joint name = "joint70" type = "fixed">
		<parent link = "box0"/>
		<child link = "box70"/>
	</joint>
	<link name = "box71">
		<visual>
			<origin xyz="13.0 6.0 0.0"/>
			<geometry>
				<box size = "1 1 2"/>
			</geometry>
		</visual>
		<collision>
			<origin xyz="13.0 6.0 0.0"/>
			<geometry>
				<box size = "1 1 2"/>
			</geometry>
		</collision>
		<contact>
			<lateral_friction value = "0.3"/>
		</contact>
		<inertial>
			<mass value = "0.0035714285714285713"/>
			<inertia ixx="0.001488095238095238" ixy="0.0" ixz="0.0" iyy="0.001488095238095238" iyz="0.0" izz="0.0005952380952380952"/>
			<origin xyz="13.0 6.0 0.0"/>
		</inertial>
	</link>
	<joint name = "joint71" type = "fixed">
		<parent link = "box0"/>
		<child link = "box71"/>
	</joint>
	<link name = "box72">
		<visual>
			<origin xyz="14.0 0.0 0.0"/>
			<geometry>
				<box size = "1 1 2"/>
			</geometry>
		</visual>
		<collision>
			<origin xyz="14.0 0.0 0.0"/>
			<geometry>
				<box size = "1 1 2"/>
			</geometry>
		</collision>
		<contact>
			<lateral_friction value = "0.3"/>
		</contact>
		<inertial>
			<mass value = "0.0035714285714285713"/>
			<inertia ixx="0.001488095238095238" ixy="0.0" ixz="0.0" iyy="0.001488095238095238" iyz="0.0" izz="0.0005952380952380952"/>
			<origin xyz="14.0 0.0 0.0"/>
		</inertial>
	</link>
	<joint name = "joint72" type = "fixed">
		<parent link = "box0"/>
		<child link = "box72"/>
	</joint>
	<link name = "box73">
		<visual>
			<origin xyz="14.0 1.0 0.0"/>
			<geometry>
				<box size = "1 1 2"/>
			</geometry>
		</visual>
		<collision>
			<origin xyz="14.0 1.0 0.0"/>
			<geometry>
				<box size = "1 1 2"/>
			</geometry>
		</collision>
		<contact>
			<lateral_friction value = "0.3"/>
		</contact>
		<inertial>
			<mass value = "0.0035714285714285713"/>
			<inertia ixx="0.001488095238095238" ixy="0.0" ixz="0.0" iyy="0.001488095238095238" iyz="0.0" izz="0.0005952380952380952"/>
			<origin xyz="14.0 1.0 0.0"/>
		</inertial>
	</link>
	<joint name = "joint73" type = "fixed">
		<parent link = "box0"/>
		<child link = "box73"/>
	</joint>
	<link name = "box74">
		<visual>
			<origin xyz="14.0 2.0 0.0"/>
			<geometry>
				<box size = "1 1 2"/>
			</geometry>
		</visual>
		<collision>
			<origin xyz="14.0 2.0 0.0"/>
			<geometry>
				<box size = "1 1 2"/>
			</geometry>
		</collision>
		<contact>
			<lateral_friction value = "0.3"/>
		</contact>
		<inertial>
			<mass value = "0.0035714285714285713"/>
			<inertia ixx="0.001488095238095238" ixy="0.0" ixz="0.0" iyy="0.001488095238095238" iyz="0.0" izz="0.0005952380952380952"/>
			<origin xyz="14.0 2.0 0.0"/>
		</inertial>
	</link>
	<joint name = "joint74" type = "fixed">
		<parent link = "box0"/>
		<child link = "box74"/>
	</joint>
	<link name = "box75">
		<visual>
			<origin xyz="14.0 3.0 0.0"/>
			<geometry>
				<box size = "1 1 2"/>
			</geometry>
		</visual>
		<collision>
			<origin xyz="14.0 3.0 0.0"/>
			<geometry>
				<box size = "1 1 2"/>
			</geometry>
		</collision>
		<contact>
			<lateral_friction value = "0.3"/>
		</contact>
		<inertial>
			<mass value = "0.0035714285714285713"/>
			<inertia ixx="0.001488095238095238" ixy="0.0" ixz="0.0" iyy="0.001488095238095238" iyz="0.0" izz="0.0005952380952380952"/>
			<origin xyz="14.0 3.0 0.0"/>
		</inertial>
	</link>
	<joint name = "joint75" type = "fixed">
		<parent link = "box0"/>
		<child link = "box75"/>
	</joint>
	<link name = "box76">
		<visual>
			<origin xyz="14.0 4.0 0.0"/>
			<geometry>
				<box size = "1 1 2"/>
			</geometry>
		</visual>
		<collision>
			<origin xyz="14.0 4.0 0.0"/>
			<geometry>
				<box size = "1 1 2"/>
			</geometry>
		</collision>
		<contact>
			<lateral_friction value = "0.3"/>
		</contact>
		<inertial>
			<mass value = "0.0035714285714285713"/>
			<inertia ixx="0.001488095238095238" ixy="0.0" ixz="0.0" iyy="0.001488095238095238" iyz="0.0" izz="0.0005952380952380952"/>
			<origin xyz="14.0 4.0 0.0"/>
		</inertial>
	</link>
	<joint name = "joint76" type = "fixed">
		<parent link = "box0"/>
		<child link = "box76"/>
	</joint>
	<link name = "box77">
		<visual>
			<origin xyz="14.0 5.0 0.0"/>
			<geometry>
				<box size = "1 1 2"/>
			</geometry>
		</visual>
		<collision>
			<origin xyz="14.0 5.0 0.0"/>
			<geometry>
				<box size = "1 1 2"/>
			</geometry>
		</collision>
		<contact>
			<lateral_friction value = "0.3"/>
		</contact>
		<inertial>
			<mass value = "0.0035714285714285713"/>
			<inertia ixx="0.001488095238095238" ixy="0.0" ixz="0.0" iyy="0.001488095238095238" iyz="0.0" izz="0.0005952380952380952"/>
			<origin xyz="14.0 5.0 0.0"/>
		</inertial>
	</link>
	<joint name = "joint77" type = "fixed">
		<parent link = "box0"/>
		<child link = "box77"/>
	</joint>
	<link name = "box78">
		<visual>
			<origin xyz="15.0 0.0 0.0"/>
			<geometry>
				<box size = "1 1 2"/>
			</geometry>
		</visual>
		<collision>
			<origin xyz="15.0 0.0 0.0"/>
			<geometry>
				<box size = "1 1 2"/>
			</geometry>
		</collision>
		<contact>
			<lateral_friction value = "0.3"/>
		</contact>
		<inertial>
			<mass value = "0.0035714285714285713"/>
			<inertia ixx="0.001488095238095238" ixy="0.0" ixz="0.0" iyy="0.001488095238095238" iyz="0.0" izz="0.0005952380952380952"/>
			<origin xyz="15.0 0.0 0.0"/>
		</inertial>
	</link>
	<joint name = "joint78" type = "fixed">
		<parent link = "box0"/>
		<child link = "box78"/>
	</joint>
	<link name = "box79">
		<visual>
			<origin xyz="15.0 1.0 0.0"/>
			<geometry>
				<box size = "1 1 2"/>
			</geometry>
		</visual>
		<collision>
			<origin xyz="15.0 1.0 0.0"/>
			<geometry>
				<box size = "1 1 2"/>
			</geometry>
		</collision>
		<contact>
			<lateral_friction value = "0.3"/>
		</contact>
		<inertial>
			<mass value = "0.0035714285714285713"/>
			<inertia ixx="0.001488095238095238" ixy="0.0" ixz="0.0" iyy="0.001488095238095238" iyz="0.0" izz="0.0005952380952380952"/>
			<origin xyz="15.0 1.0 0.0"/>
		</inertial>
	</link>
	<joint name = "joint79" type = "fixed">
		<parent link = "box0"/>
		<child link = "box79"/>
	</joint>
	<link name = "box80">
		<visual>
			<origin xyz="15.0 2.0 0.0"/>
			<geometry>
				<box size = "1 1 2"/>
			</geometry>
		</visual>
		<collision>
			<origin xyz="15.0 2.0 0.0"/>
			<geometry>
				<box size = "1 1 2"/>
			</geometry>
		</collision>
		<contact>
			<lateral_friction value = "0.3"/>
		</contact>
		<inertial>
			<mass value = "0.0035714285714285713"/>
			<inertia ixx="0.001488095238095238" ixy="0.0" ixz="0.0" iyy="0.001488095238095238" iyz="0.0" izz="0.0005952380952380952"/>
			<origin xyz="15.0 2.0 0.0"/>
		</inertial>
	</link>
	<joint name = "joint80" type = "fixed">
		<parent link = "box0"/>
		<child link = "box80"/>
	</joint>
	<link name = "box81">
		<visual>
			<origin xyz="15.0 3.0 0.0"/>
			<geometry>
				<box size = "1 1 2"/>
			</geometry>
		</visual>
		<collision>
			<origin xyz="15.0 3.0 0.0"/>
			<geometry>
				<box size = "1 1 2"/>
			</geometry>
		</collision>
		<contact>
			<lateral_friction value = "0.3"/>
		</contact>
		<inertial>
			<mass value = "0.0035714285714285713"/>
			<inertia ixx="0.001488095238095238" ixy="0.0" ixz="0.0" iyy="0.001488095238095238" iyz="0.0" izz="0.0005952380952380952"/>
			<origin xyz="15.0 3.0 0.0"/>
		</inertial>
	</link>
	<joint name = "joint81" type = "fixed">
		<parent link = "box0"/>
		<child link = "box81"/>
	</joint>
	<link name = "box82">
		<visual>
			<origin xyz="15.0 4.0 0.0"/>
			<geometry>
				<box size = "1 1 2"/>
			</geometry>
		</visual>
		<collision>
			<origin xyz="15.0 4.0 0.0"/>
			<geometry>
				<box size = "1 1 2"/>
			</geometry>
		</collision>
		<contact>
			<lateral_friction value = "0.3"/>
		</contact>
		<inertial>
			<mass value = "0.0035714285714285713"/>
			<inertia ixx="0.001488095238095238" ixy="0.0" ixz="0.0" iyy="0.001488095238095238" iyz="0.0" izz="0.0005952380952380952"/>
			<origin xyz="15.0 4.0 0.0"/>
		</inertial>
	</link>
	<joint name = "joint82" type = "fixed">
		<parent link = "box0"/>
		<child link = "box82"/>
	</joint>
	<link name = "box83">
		<visual>
			<origin xyz="15.0 5.0 0.0"/>
			<geometry>
				<box size = "1 1 2"/>
			</geometry>
		</visual>
		<collision>
			<origin xyz="15.0 5.0 0.0"/>
			<geometry>
				<box size = "1 1 2"/>
			</geometry>
		</collision>
		<contact>
			<lateral_friction value = "0.3"/>
		</contact>
		<inertial>
			<mass value = "0.0035714285714285713"/>
			<inertia ixx="0.001488095238095238" ixy="0.0" ixz="0.0" iyy="0.001488095238095238" iyz="0.0" izz="0.0005952380952380952"/>
			<origin xyz="15.0 5.0 0.0"/>
		</inertial>
	</link>
	<joint name = "joint83" type = "fixed">
		<parent link = "box0"/>
		<child link = "box83"/>
	</joint>
</robot>
